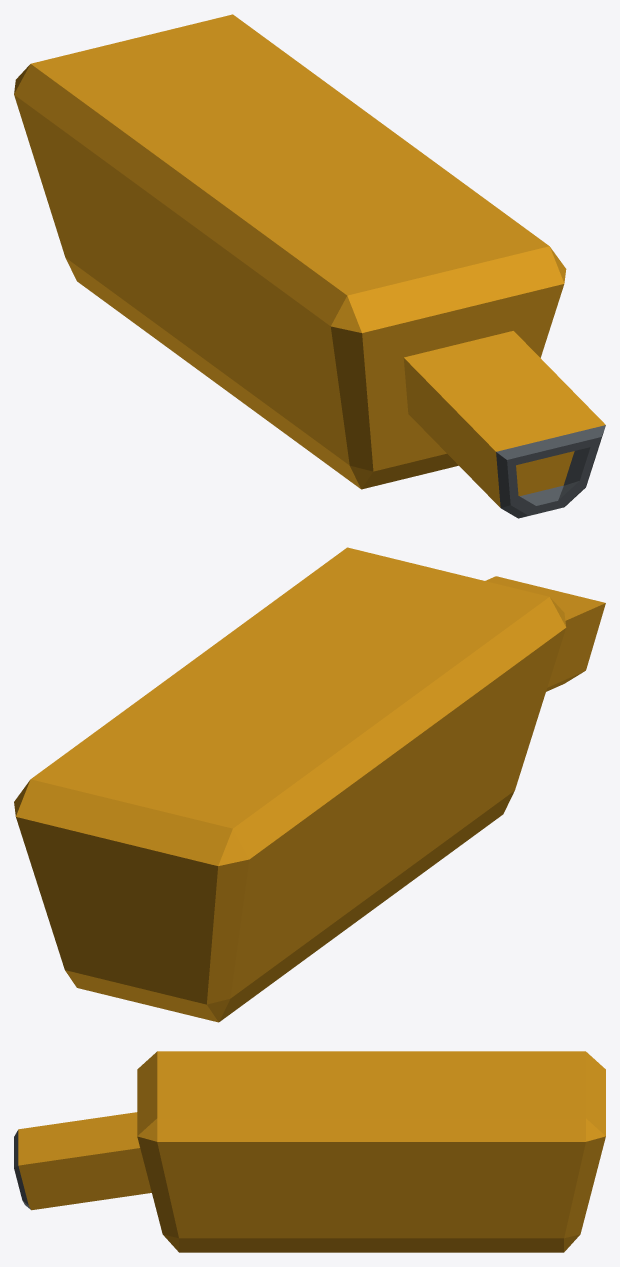
File: Dropship_02_Periscope_Yellow.fbx
The picture shows the model from 3 angles, top to bottom: view 1: azimuth 30°, elevation 25°; view 2: azimuth 150°, elevation 25°; view 3: azimuth 270°, elevation 25°; orthographic projection. The views are drawn at different scales.
Visible parts, largest first — view 1: Dropship_02_Periscope_Yellow; view 2: Dropship_02_Periscope_Yellow; view 3: Dropship_02_Periscope_Yellow.
Part boxes in pixels (x1,y1,x2,y2): Dropship_02_Periscope_Yellow: (14,14,605,518); Dropship_02_Periscope_Yellow: (14,547,605,1022); Dropship_02_Periscope_Yellow: (14,1051,605,1252).
Bounding box in the file's own units: 130 × 112 × 417.
Materials: 1 (1 with a texture image).
